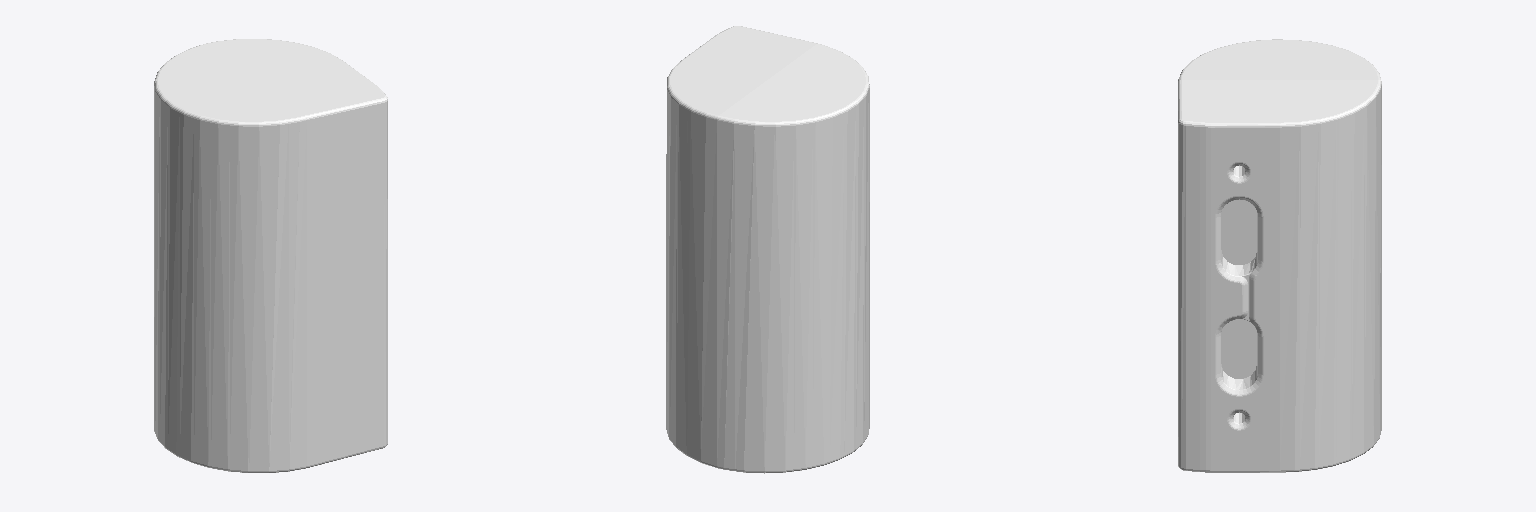
File: head_tilt_link.obj
3 renders of one model, left to right at view 1: azimuth 30°, elevation 25°; view 2: azimuth 150°, elevation 25°; view 3: azimuth 270°, elevation 25°, orthographic.
Bounding box in the file's own units: 0.1099 × 0.21 × 0.11.